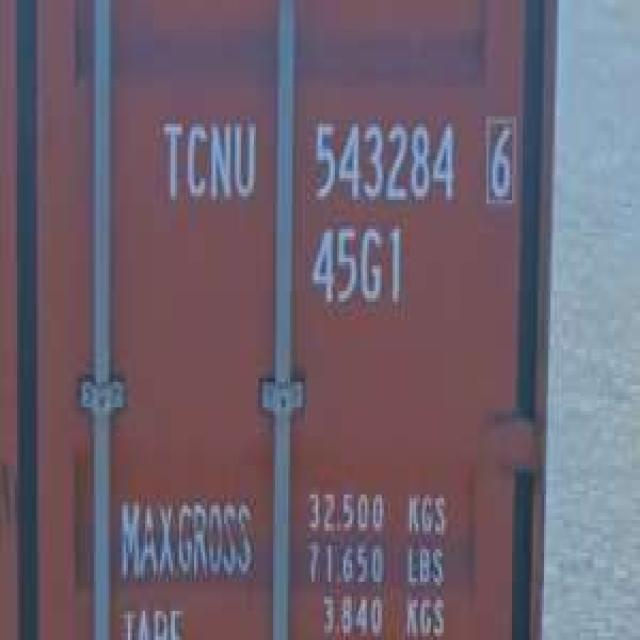dv: (478, 107, 519, 215)
owner: (155, 111, 262, 212)
serial: (306, 112, 464, 210)
size: (302, 221, 408, 320)
